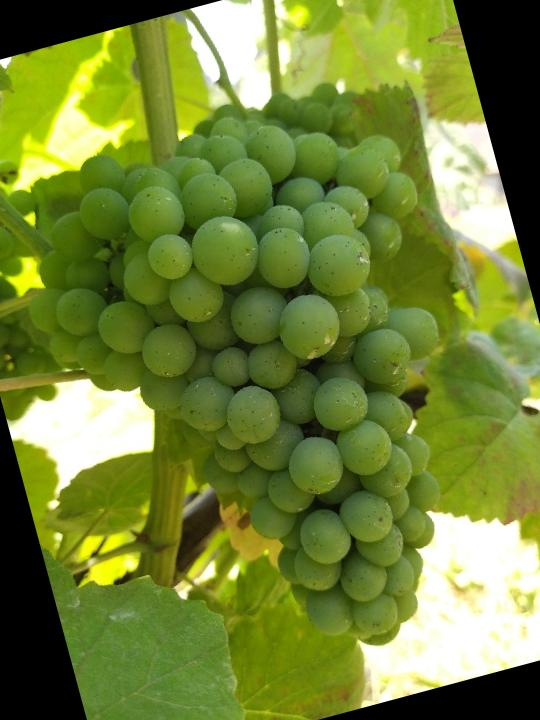grape: (0, 74, 529, 712)
